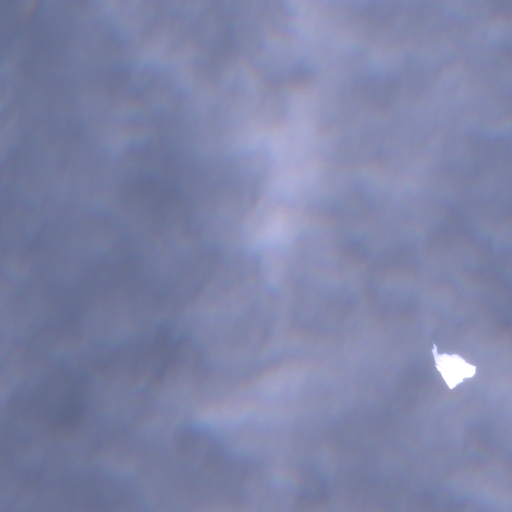Iceberg: (432, 343, 475, 388)
